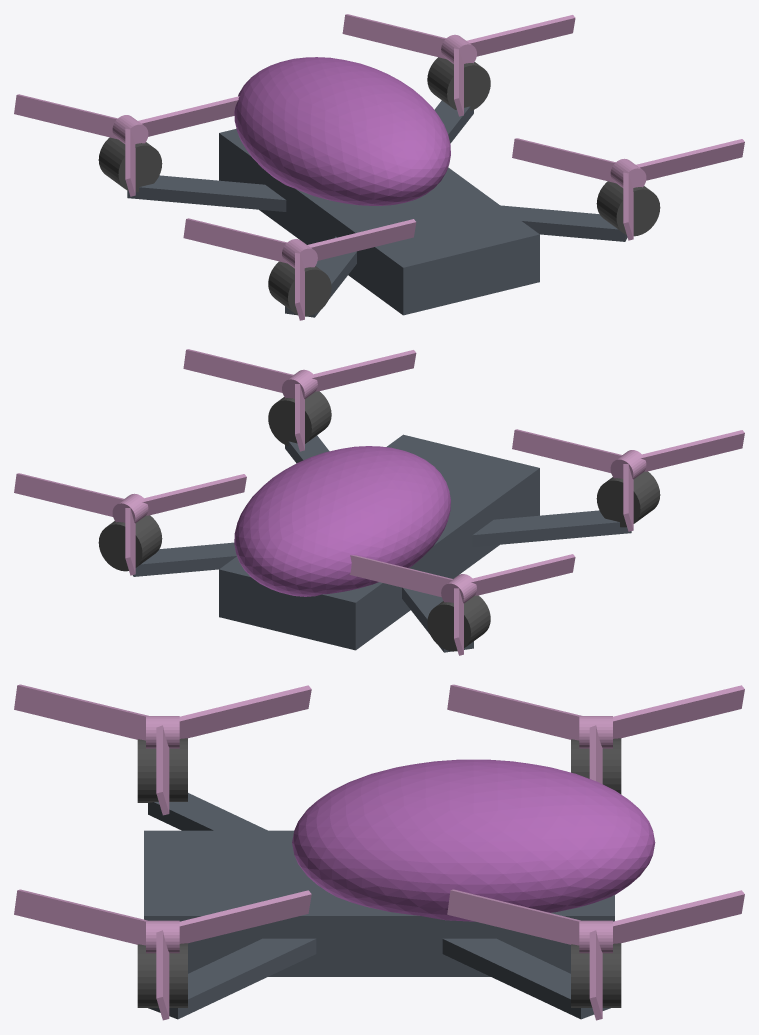
The model's file is Flynoceros Aether.glb.
The picture shows the model from 3 angles, top to bottom: view 1: azimuth 30°, elevation 25°; view 2: azimuth 150°, elevation 25°; view 3: azimuth 270°, elevation 25°; orthographic projection. The views are drawn at different scales.
Visible parts, largest first — view 1: canopy, frame_body, prop_0, prop_2, prop_1, prop_3, arm_3, arm_0, motor_0, motor_2, motor_3, motor_1 (+2 smaller); view 2: canopy, frame_body, prop_1, prop_2, prop_0, prop_3, arm_2, arm_1, motor_1, motor_3, motor_2, motor_0 (+2 smaller); view 3: canopy, frame_body, prop_0, prop_1, prop_2, prop_3, arm_1, arm_0, arm_2, motor_1, motor_0, motor_2 (+1 smaller).
Part boxes in pixels (<box>): canopy: <box>234,57,450,205</box>; frame_body: <box>219,128,539,315</box>; prop_0: <box>512,138,744,240</box>; prop_2: <box>183,218,416,320</box>; prop_1: <box>342,14,575,116</box>; prop_3: <box>14,94,239,196</box>; arm_3: <box>127,175,286,211</box>; arm_0: <box>500,205,627,241</box>; motor_0: <box>596,181,660,236</box>; motor_2: <box>268,261,331,316</box>; motor_3: <box>98,137,162,192</box>; motor_1: <box>427,57,490,110</box>; canopy: <box>234,446,450,596</box>; frame_body: <box>219,434,539,650</box>; prop_1: <box>14,473,246,575</box>; prop_2: <box>512,429,744,531</box>; prop_0: <box>183,349,416,451</box>; prop_3: <box>349,554,575,655</box>; arm_2: <box>472,510,631,546</box>; arm_1: <box>133,542,236,576</box>; motor_1: <box>98,515,162,571</box>; motor_3: <box>427,595,490,651</box>; motor_2: <box>596,471,660,527</box>; motor_0: <box>268,391,331,445</box>; canopy: <box>292,759,655,921</box>; frame_body: <box>144,830,614,976</box>; prop_0: <box>14,889,311,1020</box>; prop_1: <box>447,889,744,1020</box>; prop_2: <box>14,684,311,815</box>; prop_3: <box>447,684,744,783</box>; arm_1: <box>442,938,610,1019</box>; arm_0: <box>148,938,316,1019</box>; arm_2: <box>148,793,267,830</box>; motor_1: <box>571,943,621,1007</box>; motor_0: <box>137,943,187,1007</box>; motor_2: <box>137,738,187,802</box>.
Size of the model in its own units: 0.2209 by 0.0516 by 0.2173.
